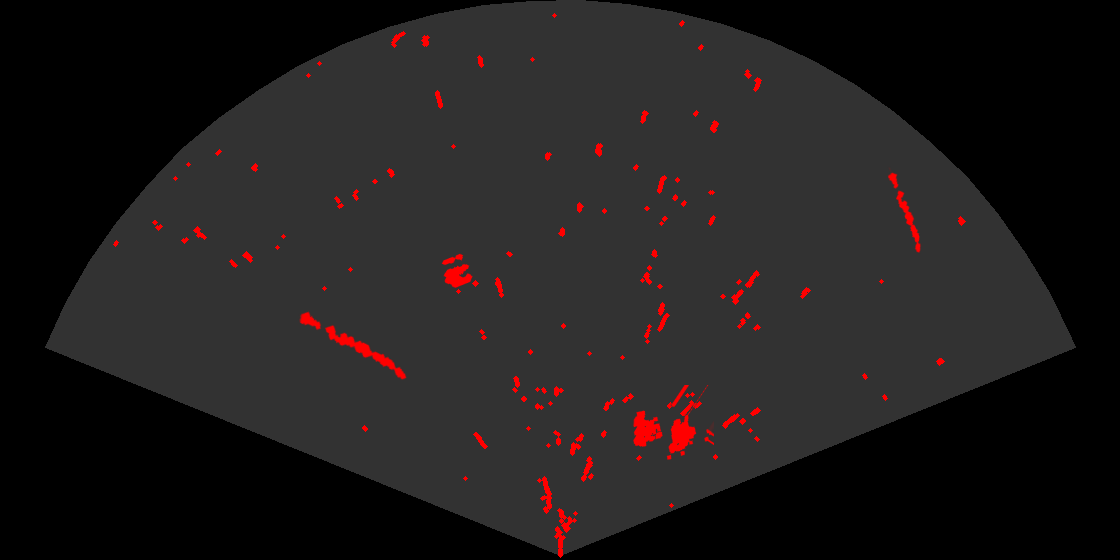ball: (440, 252, 474, 289)
cage: (631, 385, 714, 461)
chain: (298, 310, 408, 381), (886, 166, 923, 254)
